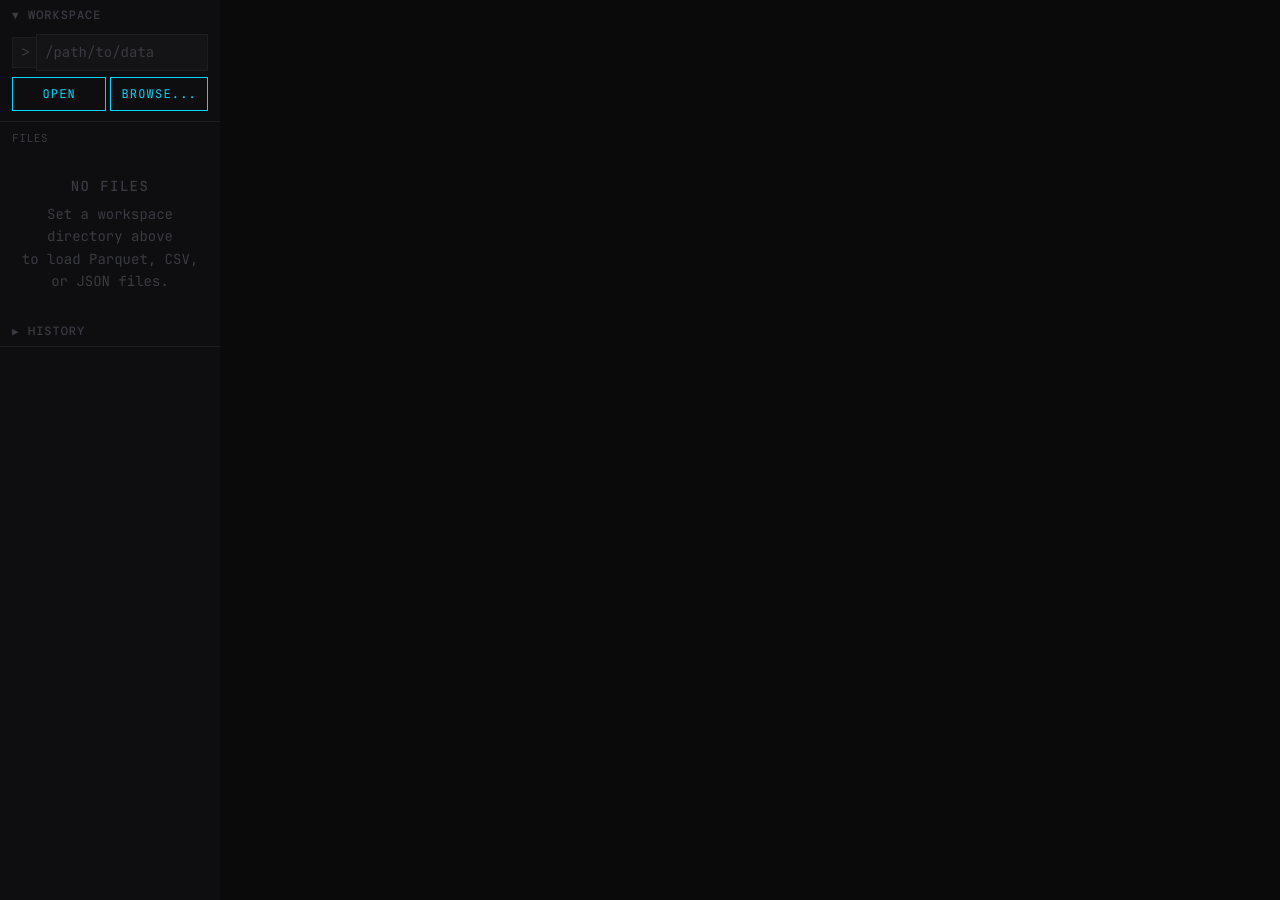
FileExplorer › clicking cancel closes the browse modal
This screenshot has width=1280, height=900.
Step 1. Click the button "browse..." → (159, 94), box left=110, top=77, right=208, bottom=111
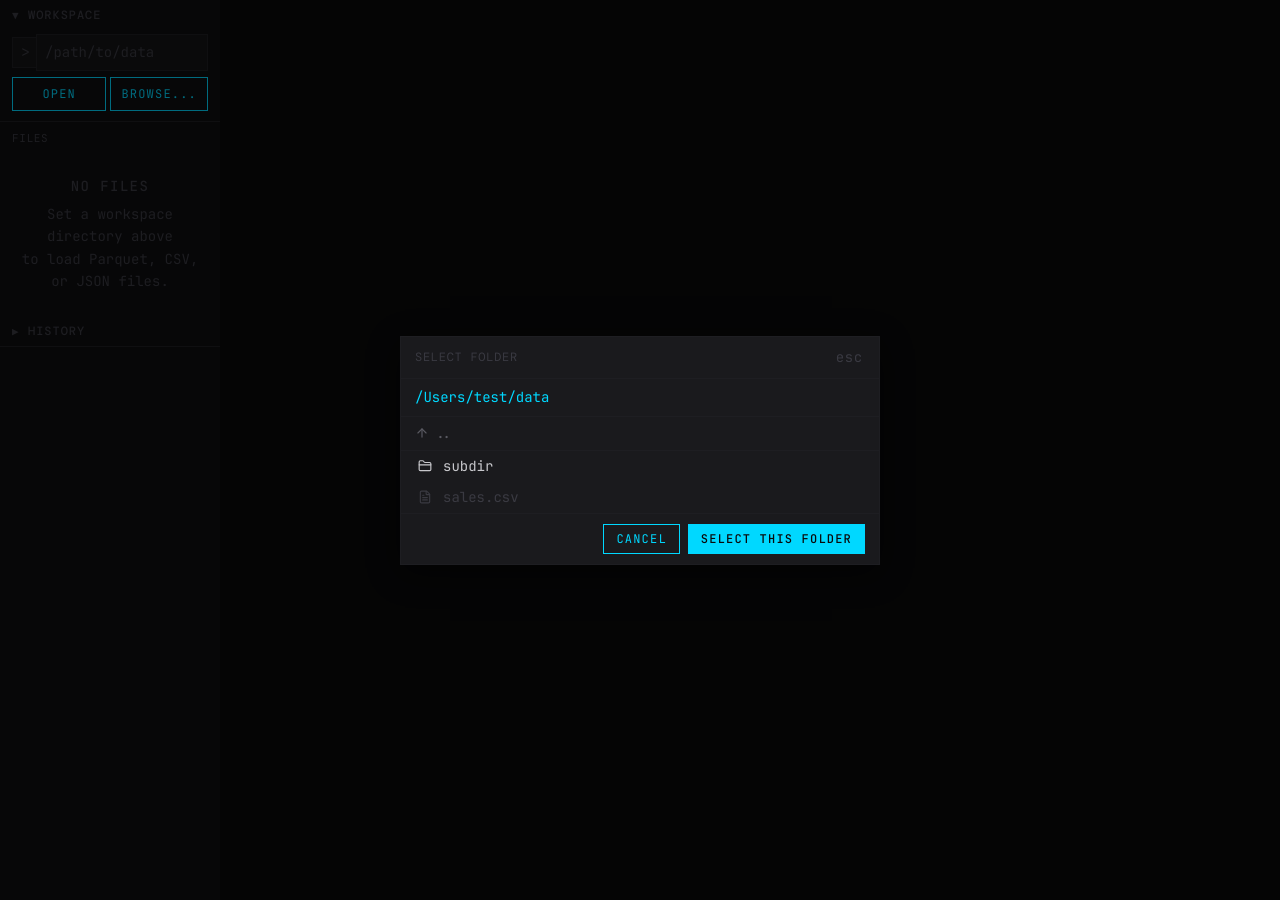
Now the text "select folder" is shown, box left=415, top=348, right=518, bottom=366
Step 2. Click the button "cancel" → (642, 538), box left=603, top=524, right=680, bottom=554
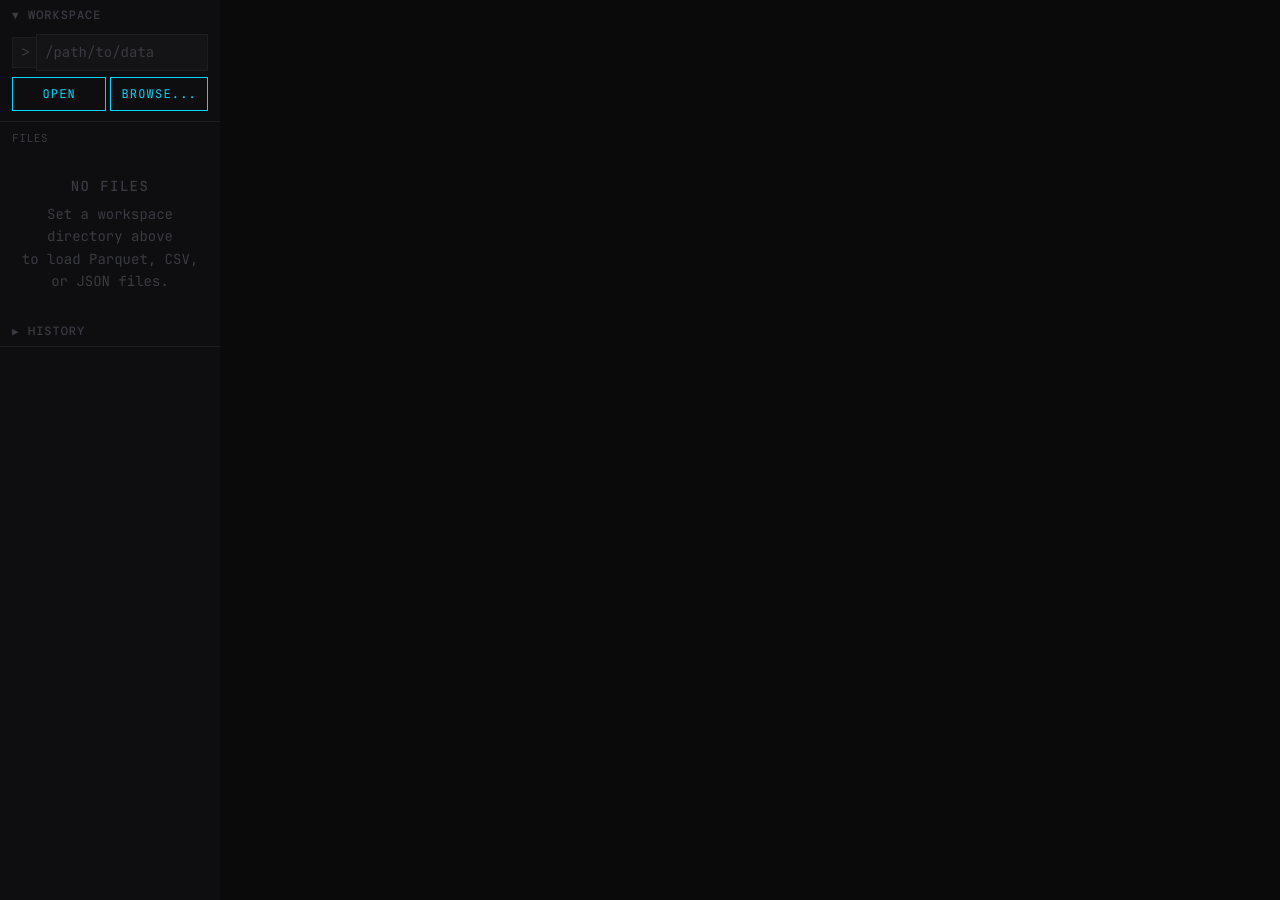
Now the text "select folder" is gone
